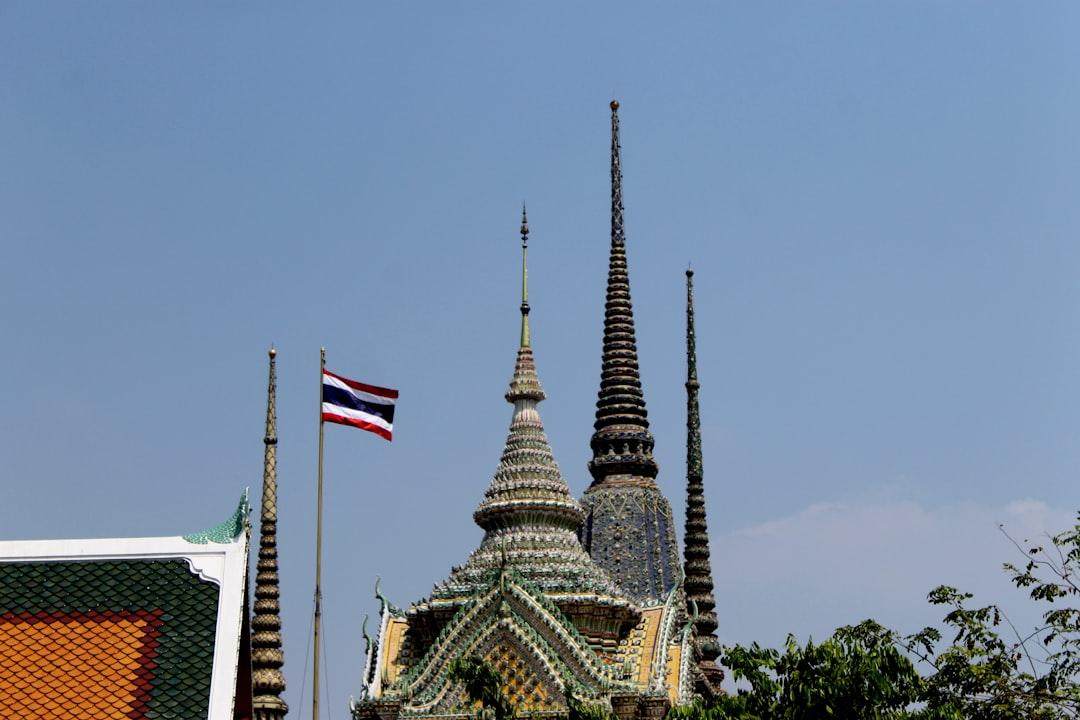Thailand: (317, 365, 399, 443)
